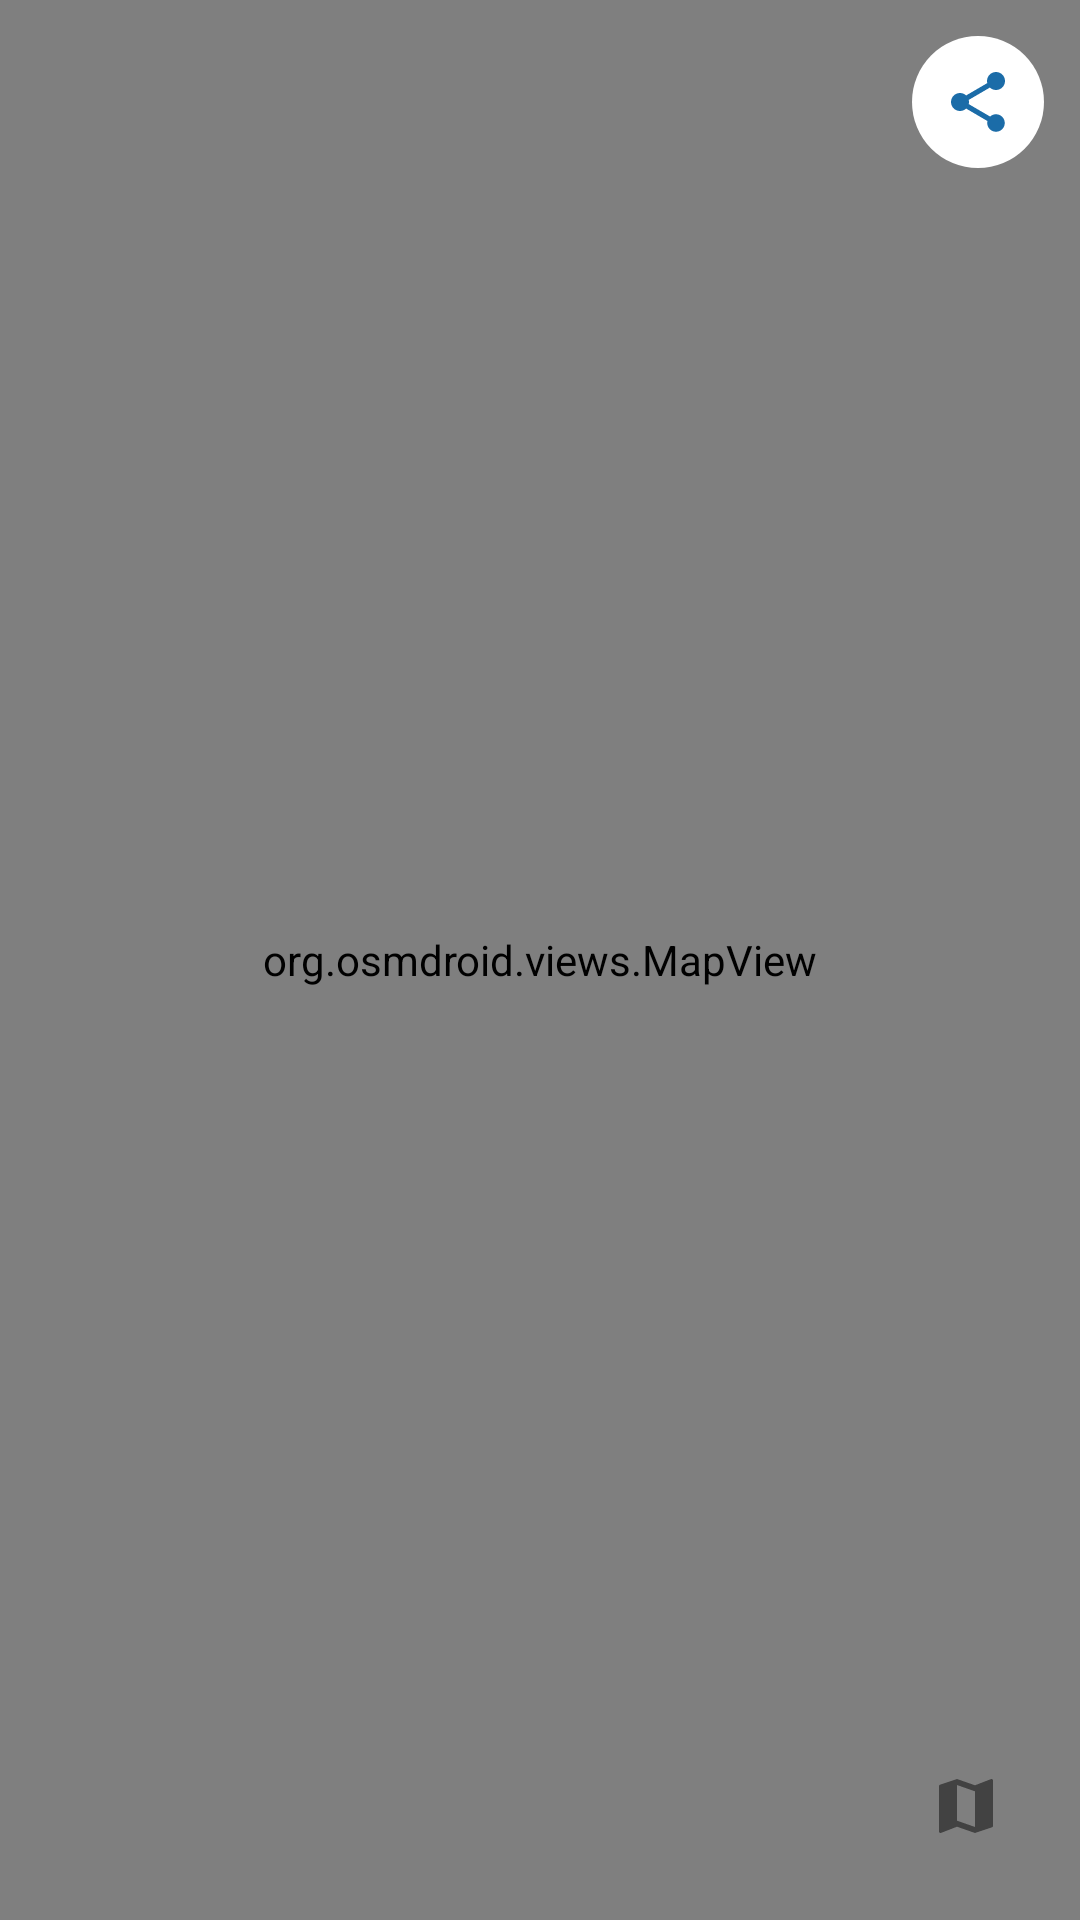

Locate icon controls on the screen. Image size 1080*1920, boxes as {"left": x1, "top": y1, "right": x2, "bottom": y2}.
Changer fond: {"left": 939, "top": 1779, "right": 993, "bottom": 1833}
Partager (GPX): {"left": 912, "top": 36, "right": 1044, "bottom": 168}
